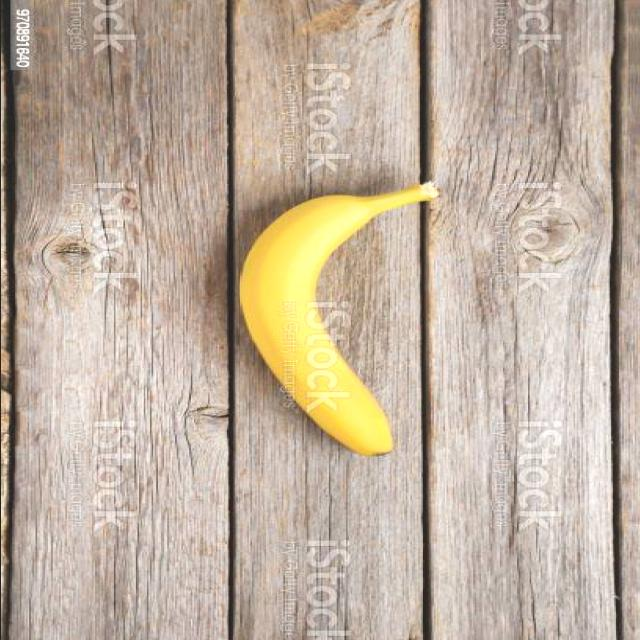Platano: (231, 178, 447, 459)
